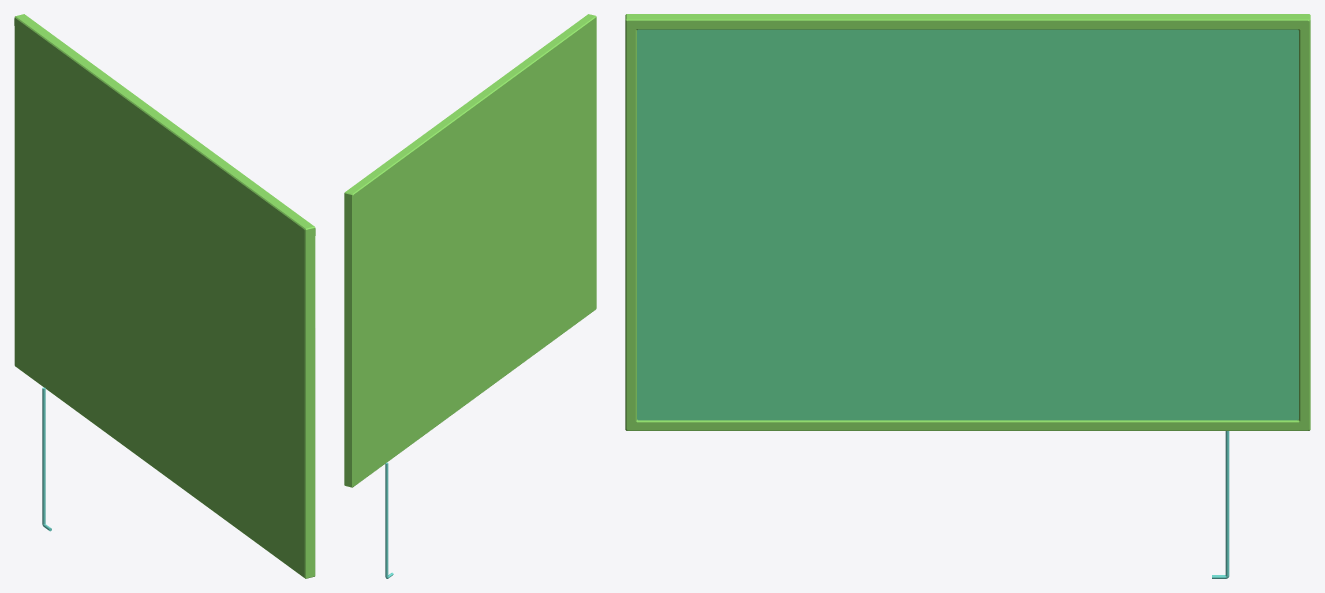
3 renders of one model, left to right at view 1: azimuth 30°, elevation 25°; view 2: azimuth 150°, elevation 25°; view 3: azimuth 270°, elevation 25°, orthographic. The views are drawn at different scales.
Visible parts, largest first — view 1: TV; view 2: TV; view 3: TV.
Boxes of the visible parts, box(x1,y1,x2,y2) form: TV: box(14, 14, 315, 578); TV: box(344, 14, 596, 578); TV: box(625, 14, 1310, 578).
Size of the model in its own units: 4.32 by 114 by 125.
